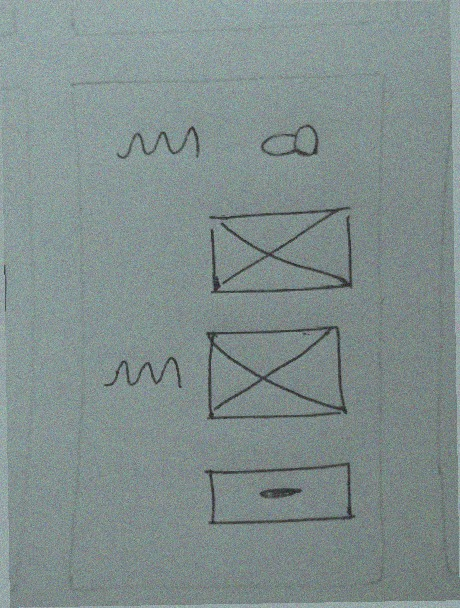button: (198, 457, 365, 540)
image: (197, 317, 354, 426), (199, 200, 359, 305)
switch: (248, 117, 327, 170)
text: (108, 117, 210, 165), (98, 352, 190, 405)
